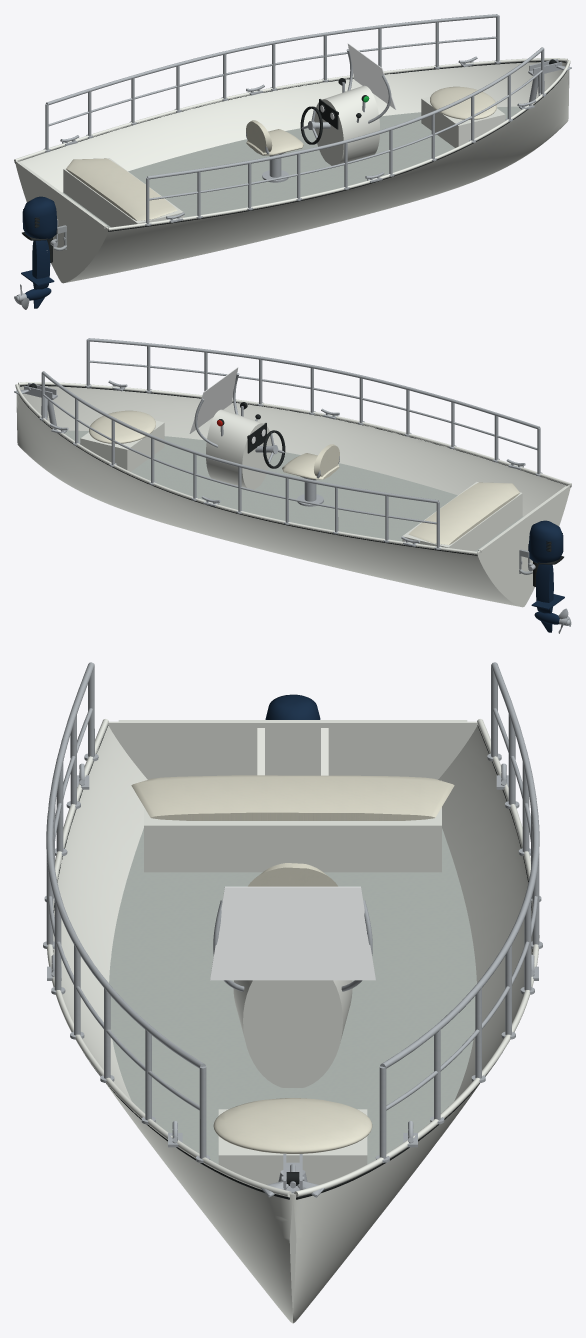
Rendered from skiff-center-console.glb.
3 views of the same model, one above another, from view 1: azimuth 30°, elevation 25°; view 2: azimuth 150°, elevation 25°; view 3: azimuth 270°, elevation 25° (orthographic). The views are drawn at different scales.
Visible parts, largest first — view 1: Finite lofted hull and transom, Seated continuous cockpit deck, Anchor retained roller pin, Forward padded seat, Stern outboard finite anti-ventilation plate, Anchor rolling cylinder, Finite open console windscreen; view 2: Finite lofted hull and transom, Seated continuous cockpit deck, Anchor retained roller pin, Forward padded seat, Stern outboard finite anti-ventilation plate, Anchor rolling cylinder, Finite open console windscreen; view 3: Finite lofted hull and transom, Seated continuous cockpit deck, Anchor retained roller pin, Forward padded seat, Finite open console windscreen, Anchor rolling cylinder, Stern outboard finite anti-ventilation plate.
Part boxes in pixels (x1,y1,x2,y2): Finite lofted hull and transom: [14, 58, 570, 283]; Seated continuous cockpit deck: [62, 106, 521, 227]; Anchor retained roller pin: [14, 14, 571, 309]; Forward padded seat: [66, 86, 496, 220]; Stern outboard finite anti-ventilation plate: [21, 196, 57, 308]; Anchor rolling cylinder: [14, 59, 569, 262]; Finite open console windscreen: [320, 43, 396, 119]; Finite lofted hull and transom: [15, 382, 571, 607]; Seated continuous cockpit deck: [64, 430, 523, 551]; Anchor retained roller pin: [14, 338, 571, 633]; Forward padded seat: [89, 410, 519, 544]; Stern outboard finite anti-ventilation plate: [528, 520, 564, 632]; Anchor rolling cylinder: [19, 383, 571, 586]; Finite open console windscreen: [189, 367, 265, 443]; Finite lofted hull and transom: [47, 719, 539, 1323]; Seated continuous cockpit deck: [109, 828, 476, 1164]; Anchor retained roller pin: [43, 662, 542, 1197]; Forward padded seat: [131, 775, 454, 1153]; Finite open console windscreen: [210, 886, 375, 980]; Anchor rolling cylinder: [53, 725, 532, 1199]; Stern outboard finite anti-ventilation plate: [265, 694, 320, 719].
Size of the model in its own units: 6.01 by 1.79 by 2.35.
Materials: 10 (5 with a texture image).
